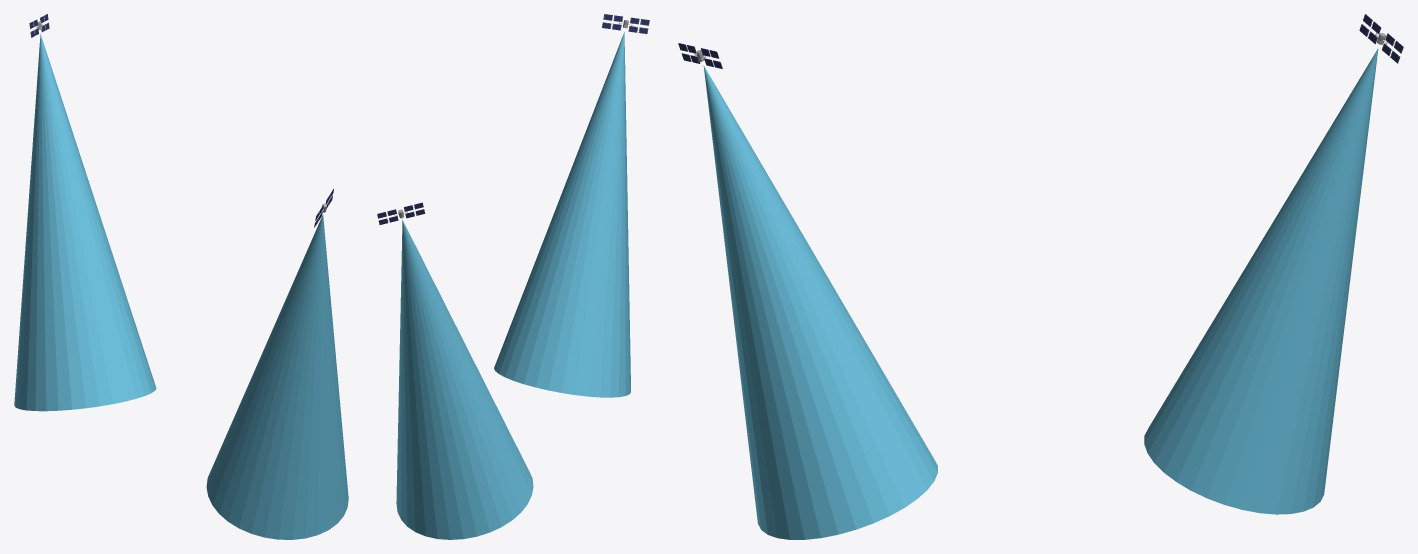
File: twosats.glb
3 renders of one model, left to right at view 1: azimuth 30°, elevation 25°; view 2: azimuth 150°, elevation 25°; view 3: azimuth 270°, elevation 25°, orthographic. The views are drawn at different scales.
Visible parts, largest first — view 1: sateliteB, sateliteA; view 2: sateliteA, sateliteB; view 3: sateliteA, sateliteB.
Part boxes in pixels (x1=…): sateliteB: x1=14, y1=14, x2=156, y2=411; sateliteA: x1=206, y1=189, x2=348, y2=539; sateliteA: x1=494, y1=14, x2=649, y2=397; sateliteB: x1=377, y1=202, x2=533, y2=539; sateliteA: x1=678, y1=43, x2=937, y2=539; sateliteB: x1=1144, y1=14, x2=1403, y2=514.
Size of the model in its own units: 111 by 223 by 310.
2 materials, 1 textured.
